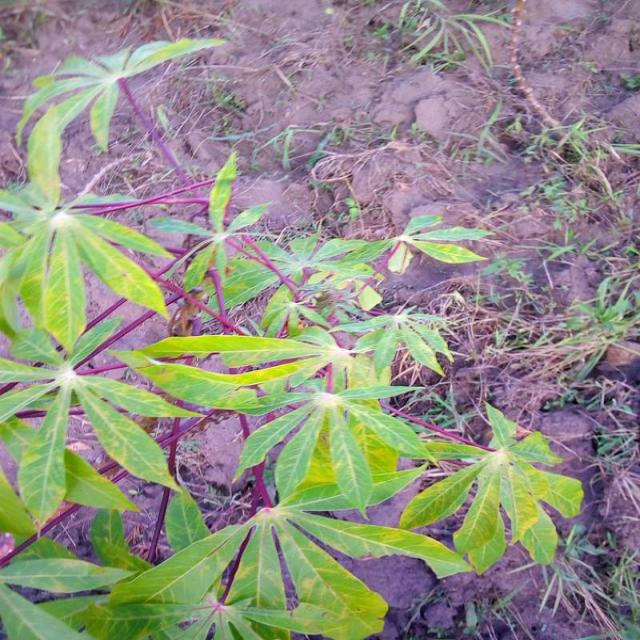cassava leaf: (1, 36, 583, 638), (398, 400, 584, 576)
